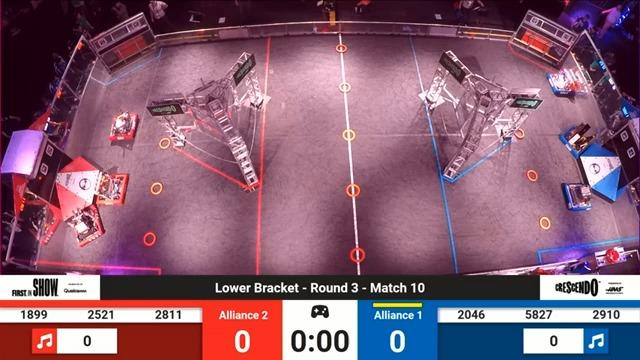robot: (65, 205, 107, 249), (88, 169, 130, 210), (562, 176, 596, 217), (559, 119, 592, 160), (546, 67, 583, 102), (110, 113, 139, 146)
